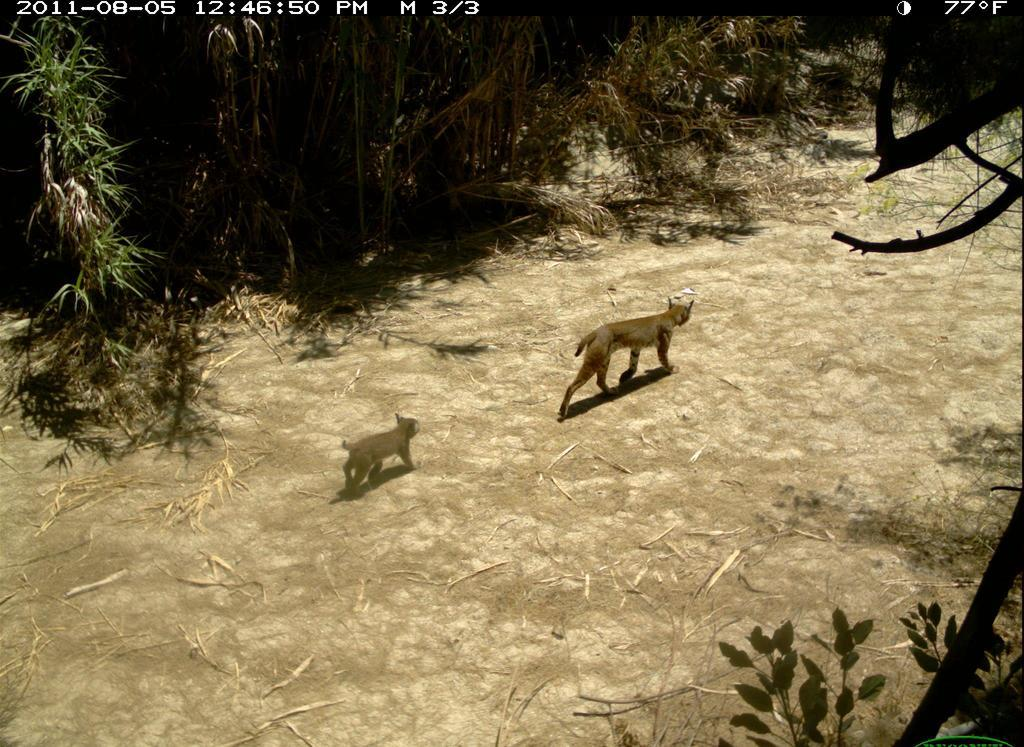bobcat: (555, 292, 701, 425), (335, 413, 433, 505)
